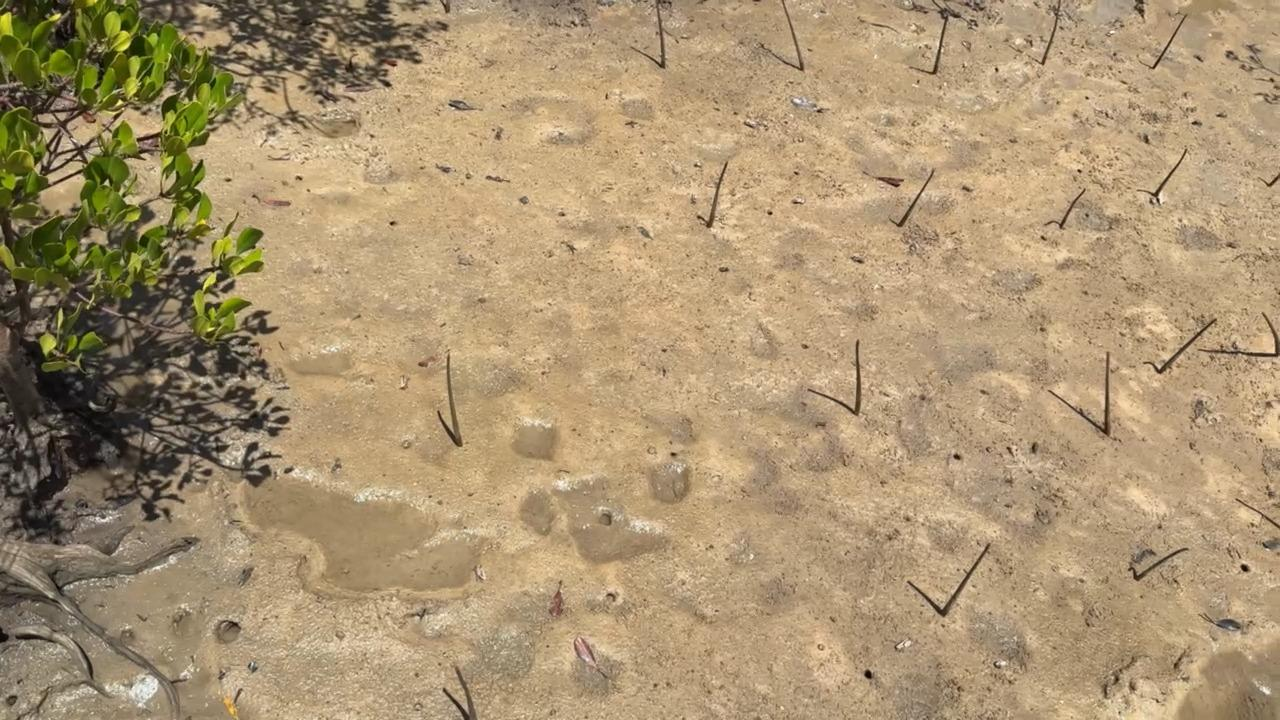Tree: (941, 543, 991, 618), (1159, 318, 1217, 374), (898, 168, 934, 227), (1151, 13, 1187, 71), (1136, 547, 1189, 581), (1153, 149, 1188, 198), (781, 0, 804, 70), (446, 353, 463, 446), (707, 160, 728, 228), (454, 665, 478, 720), (1041, 0, 1061, 66), (932, 0, 948, 75), (1059, 188, 1086, 228), (1261, 312, 1280, 353), (655, 0, 666, 67), (853, 338, 861, 414), (1104, 351, 1111, 437), (1268, 171, 1280, 186)
